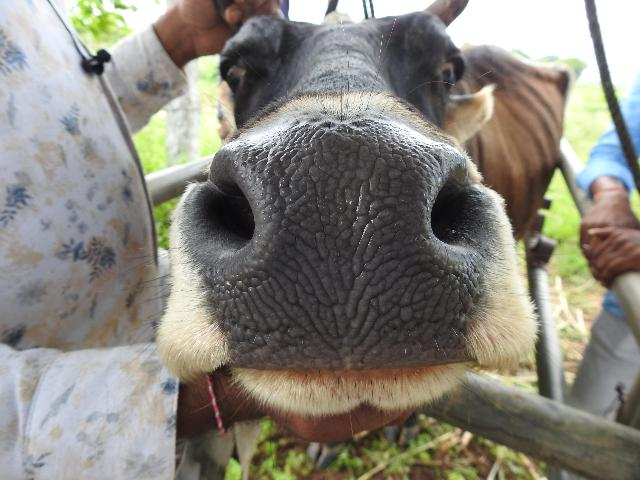Muzzle: (258, 138, 427, 348)
